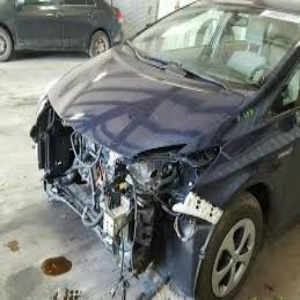bumper: (59, 130, 172, 262)
